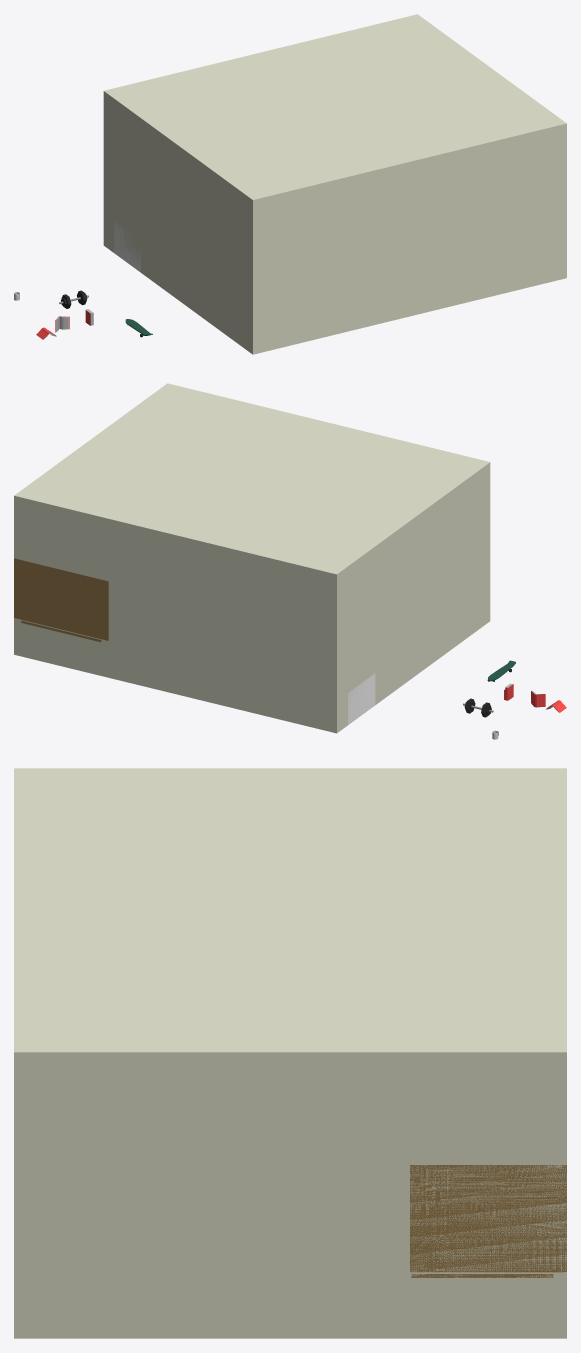
The model's file is DetailedRoom2WithDetails.fbx.
3 renders of one model, top to bottom at view 1: azimuth 30°, elevation 25°; view 2: azimuth 150°, elevation 25°; view 3: azimuth 270°, elevation 25°, orthographic. The views are drawn at different scales.
Visible parts, largest first — view 1: ZimmerWand, Nachtschränkchen; view 2: ZimmerWand, Tischregal, Nachtschränkchen; view 3: ZimmerWand, Tischregal.
Boxes of the visible parts, left/top/right/bottom form: ZimmerWand: left=103, top=14, right=566, bottom=354; Nachtschränkchen: left=114, top=222, right=140, bottom=272; ZimmerWand: left=14, top=383, right=490, bottom=733; Tischregal: left=14, top=558, right=108, bottom=640; Nachtschränkchen: left=348, top=673, right=375, bottom=724; ZimmerWand: left=14, top=768, right=566, bottom=1338; Tischregal: left=410, top=1165, right=566, bottom=1272.
Bounding box in the file's own units: 9878 × 3203 × 5600.
